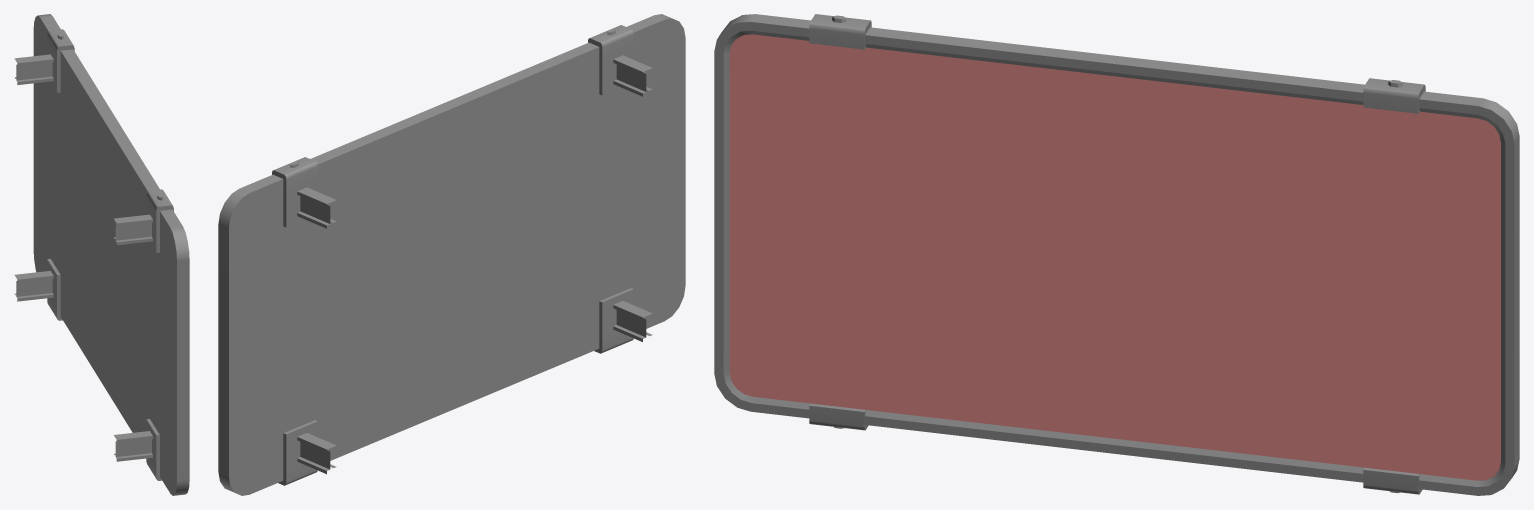
The model's file is SM_ENV_KNVLLG03_VideoScreen_A.gltf.
The picture shows the model from 3 angles, left to right: view 1: azimuth 30°, elevation 25°; view 2: azimuth 150°, elevation 25°; view 3: azimuth 270°, elevation 25°; orthographic projection. The views are drawn at different scales.
Visible parts, largest first — view 1: SM_ENV_KNVLLG03_VideoScreen_A; view 2: SM_ENV_KNVLLG03_VideoScreen_A; view 3: SM_ENV_KNVLLG03_VideoScreen_A.
Part boxes in pixels (bbox=[...]): SM_ENV_KNVLLG03_VideoScreen_A: bbox=[14, 14, 189, 495]; SM_ENV_KNVLLG03_VideoScreen_A: bbox=[218, 14, 685, 495]; SM_ENV_KNVLLG03_VideoScreen_A: bbox=[714, 14, 1519, 495].
Bounding box in the file's own units: 4.97 × 8.49 × 15.12.
